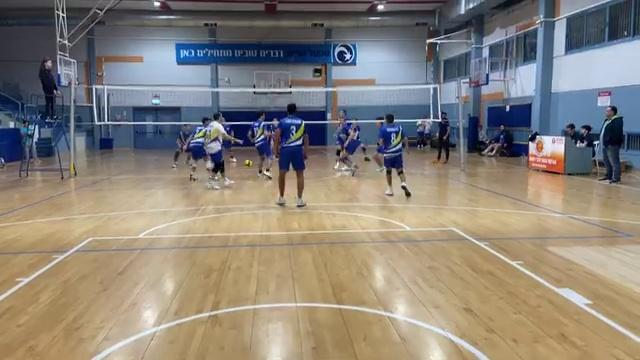ball: (242, 156, 257, 169)
